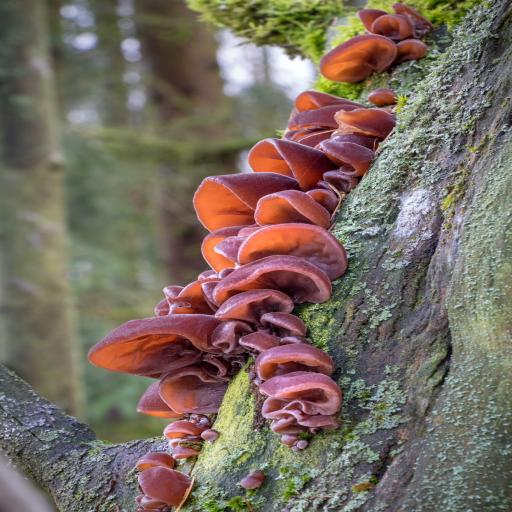Wood Ear Mushroom: (84, 138, 346, 500), (280, 88, 391, 166), (324, 2, 422, 84)
